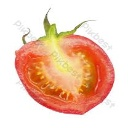tomato: (17, 34, 114, 114)
